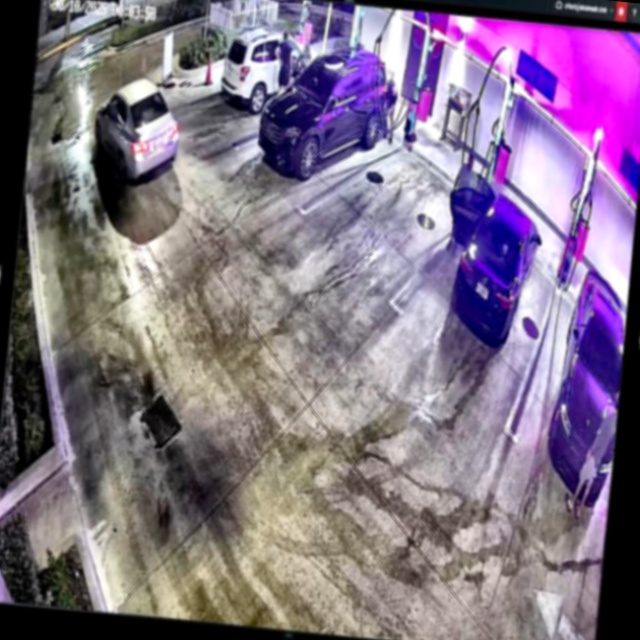Car: (256, 37, 399, 190), (440, 170, 548, 344), (90, 72, 186, 185)
